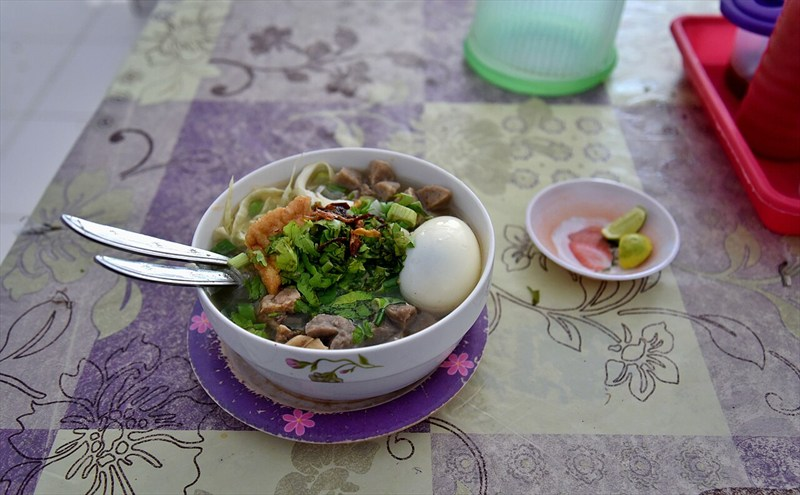Bakso: (97, 20, 784, 426)
